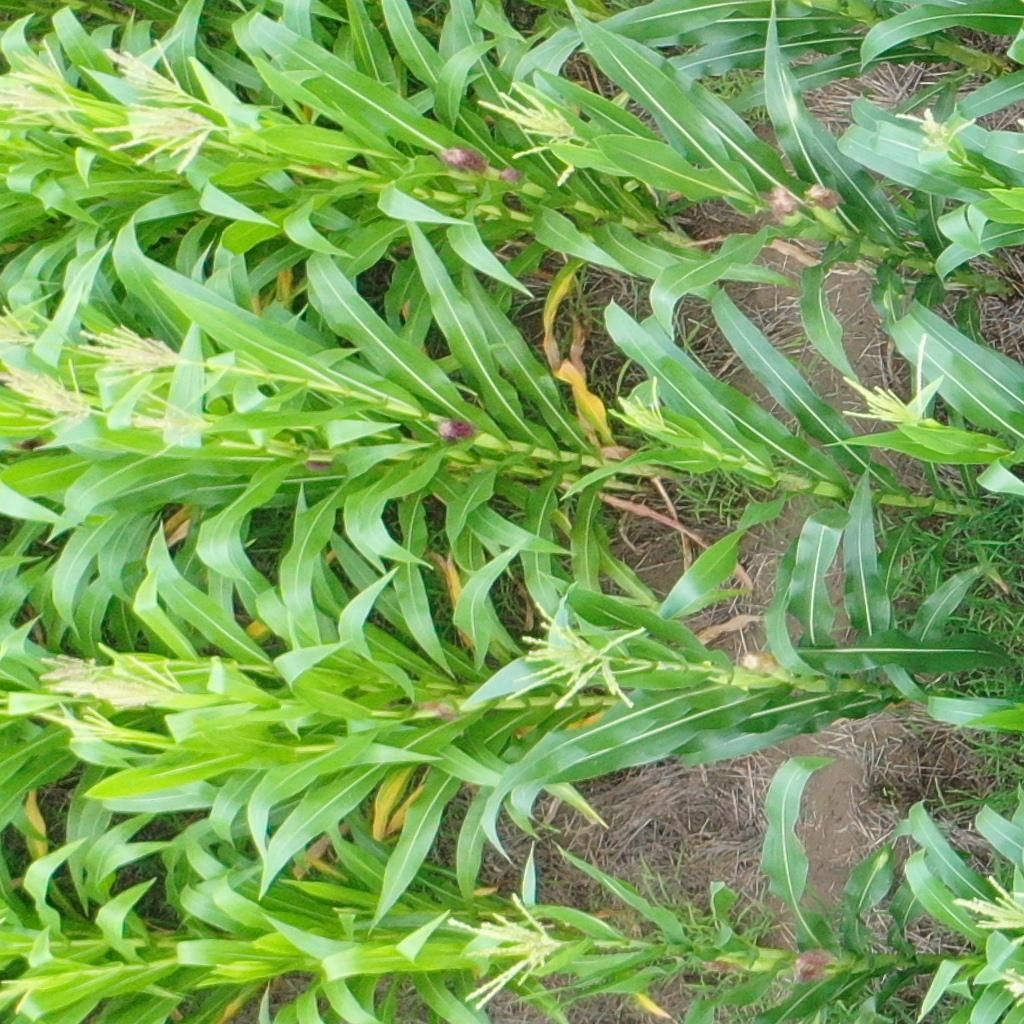Tassel: (503, 606, 647, 717), (474, 77, 595, 184), (445, 888, 560, 992), (838, 328, 939, 430), (90, 106, 224, 175), (1, 345, 96, 430), (53, 656, 188, 711), (121, 384, 222, 455), (76, 322, 188, 385), (98, 34, 196, 99), (948, 871, 1022, 934), (605, 368, 673, 434), (895, 102, 978, 151), (1, 72, 83, 121), (37, 704, 125, 745), (6, 35, 74, 86), (39, 651, 104, 699), (1, 302, 40, 354), (996, 965, 1024, 992)
